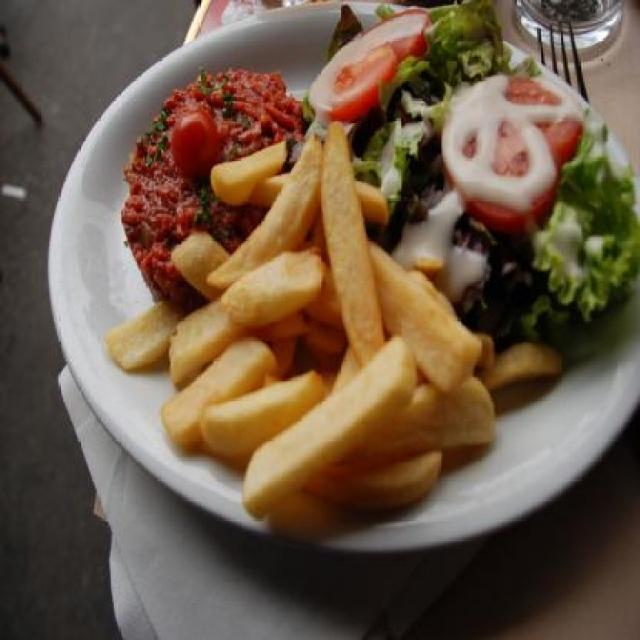French fries: (103, 116, 565, 512)
